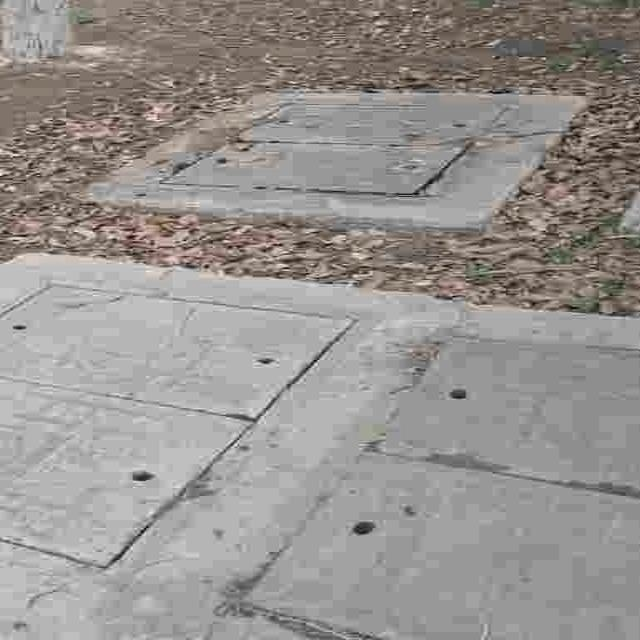good: (196, 326, 640, 640), (0, 276, 375, 584), (144, 97, 520, 205)
